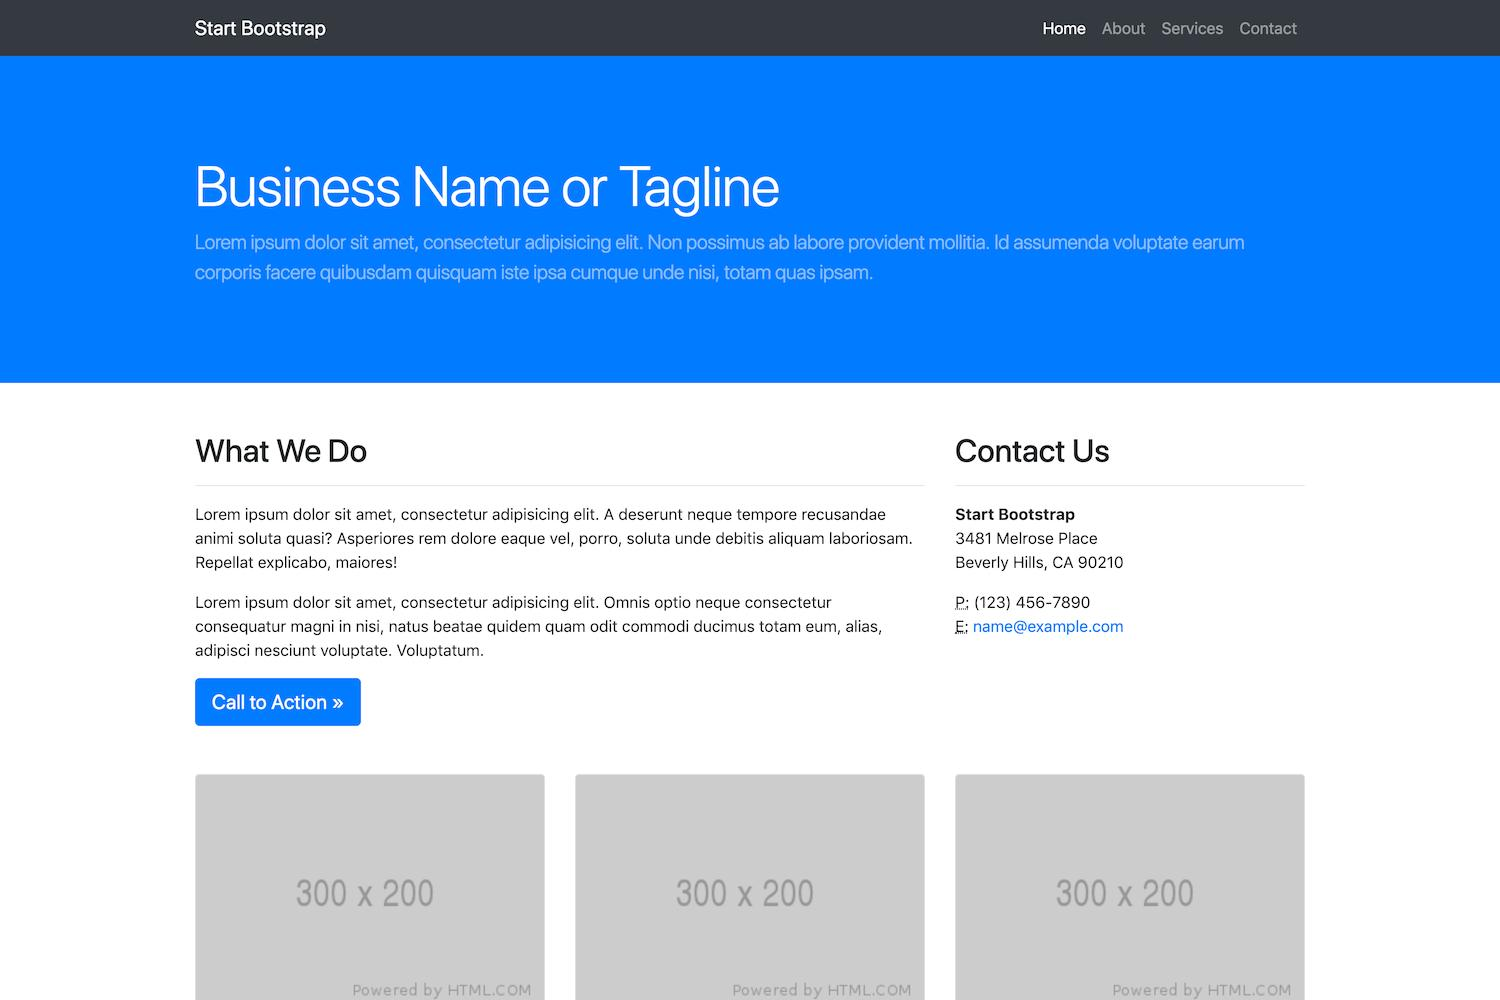button: (187, 671, 372, 731)
